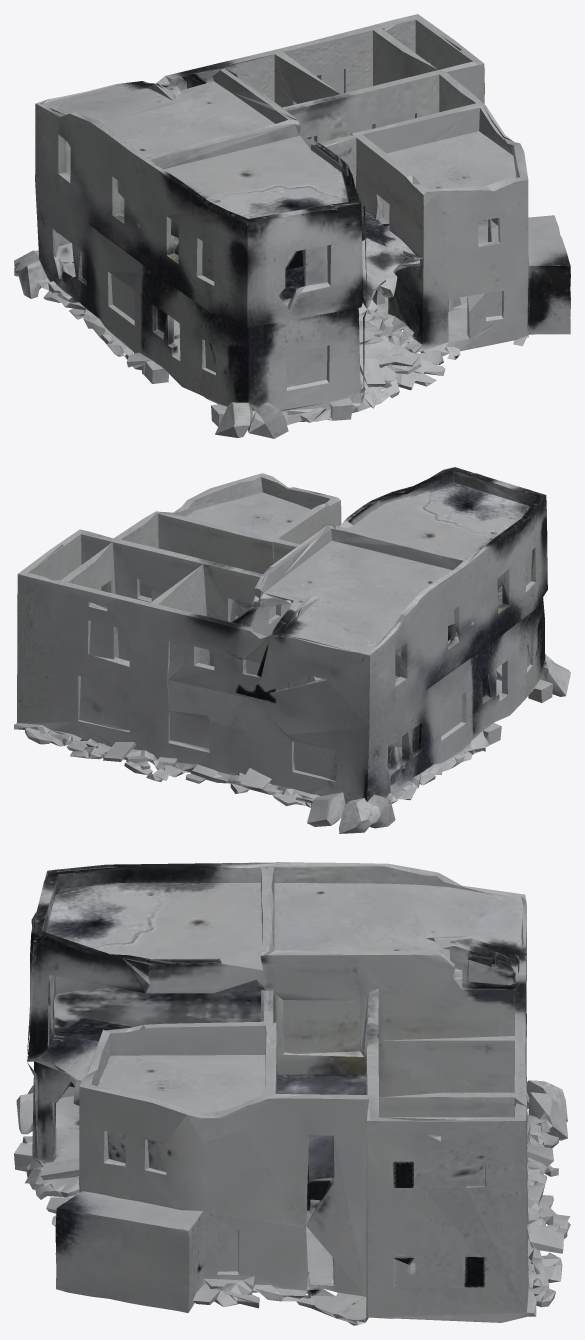
The model's file is bldg4.glb.
3 views of the same model, one above another, from view 1: azimuth 30°, elevation 25°; view 2: azimuth 150°, elevation 25°; view 3: azimuth 270°, elevation 25° (orthographic). The views are drawn at different scales.
Bounding box in the file's own units: 1.89 × 0.9429 × 1.9.
1 material, 1 textured.
